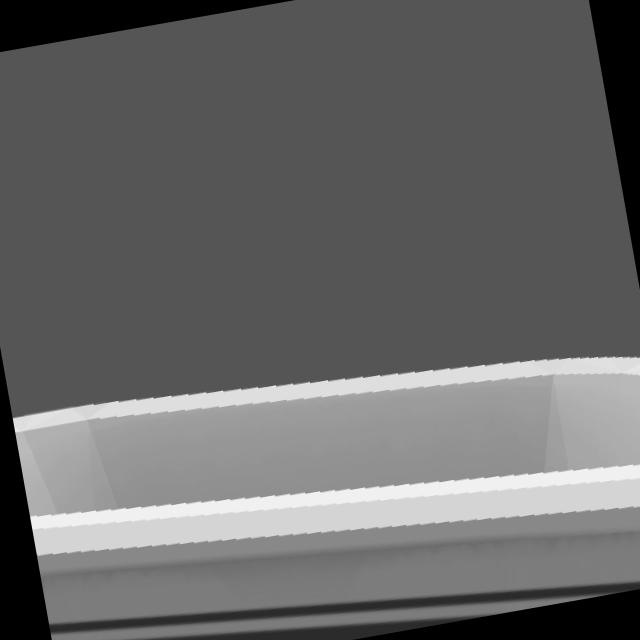bathtube: (12, 357, 640, 640)
